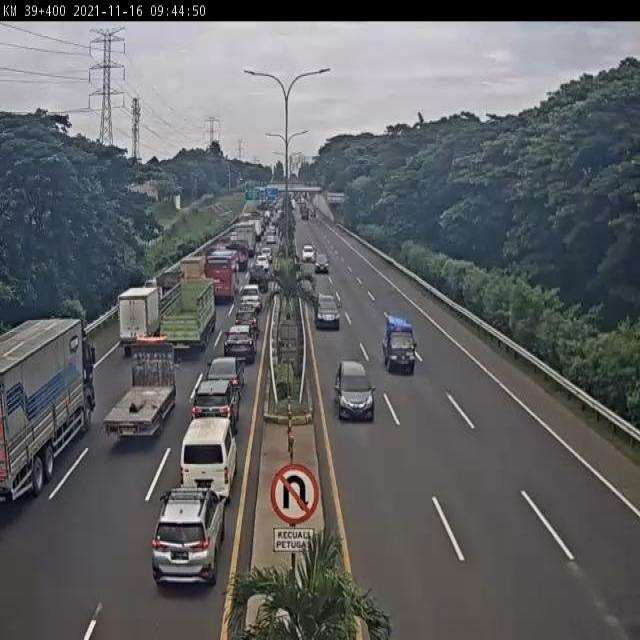Bus: (204, 249, 241, 301)
Car: (150, 482, 228, 590), (190, 376, 242, 429), (333, 358, 375, 421), (203, 354, 247, 390), (224, 323, 258, 363), (315, 293, 341, 330), (233, 303, 260, 334), (238, 284, 262, 310), (248, 264, 268, 292), (314, 254, 330, 273), (302, 245, 316, 262), (256, 255, 270, 272), (260, 245, 273, 262), (266, 232, 276, 245), (230, 230, 240, 242)
Truck: (0, 316, 97, 503), (103, 334, 184, 439), (158, 278, 217, 353), (117, 284, 163, 357), (382, 312, 418, 376), (235, 221, 257, 258), (224, 240, 250, 269), (179, 253, 206, 280), (154, 270, 183, 294), (248, 219, 262, 241), (301, 206, 310, 222)
Van: (177, 416, 240, 501)
